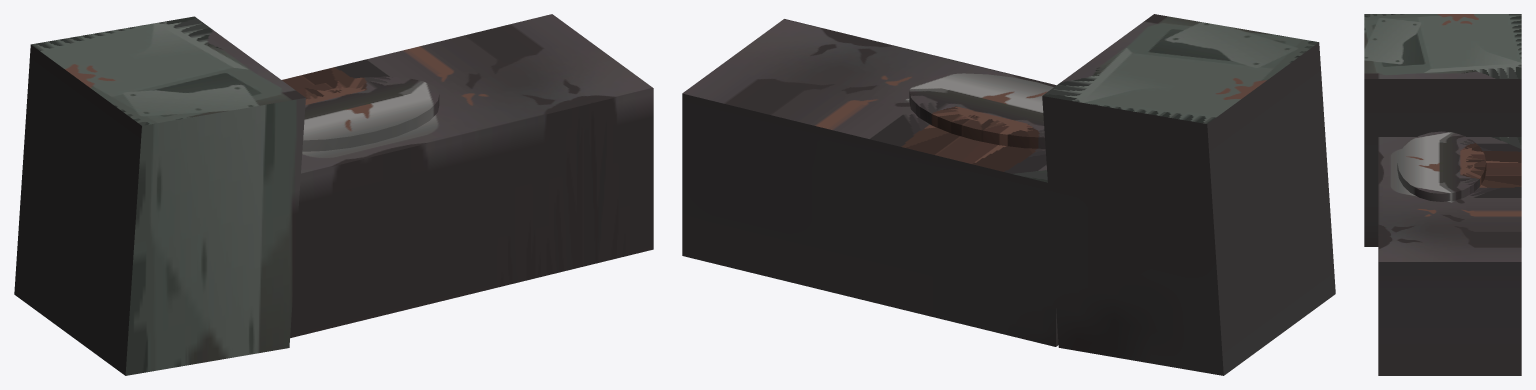
File: Building_AncientTableSmithingFueled.obj
3 renders of one model, left to right at view 1: azimuth 30°, elevation 25°; view 2: azimuth 150°, elevation 25°; view 3: azimuth 270°, elevation 25°, orthographic. The views are drawn at different scales.
Visible parts, largest first — view 1: Body; view 2: Body; view 3: Body.
Part boxes in pixels (x1,y1,x2,y2): Body: (14, 14, 653, 375); Body: (682, 14, 1335, 375); Body: (1364, 14, 1521, 375).
Bounding box in the file's own units: 2.97 × 1.36 × 1.06.
Materials: 1 (1 with a texture image).
